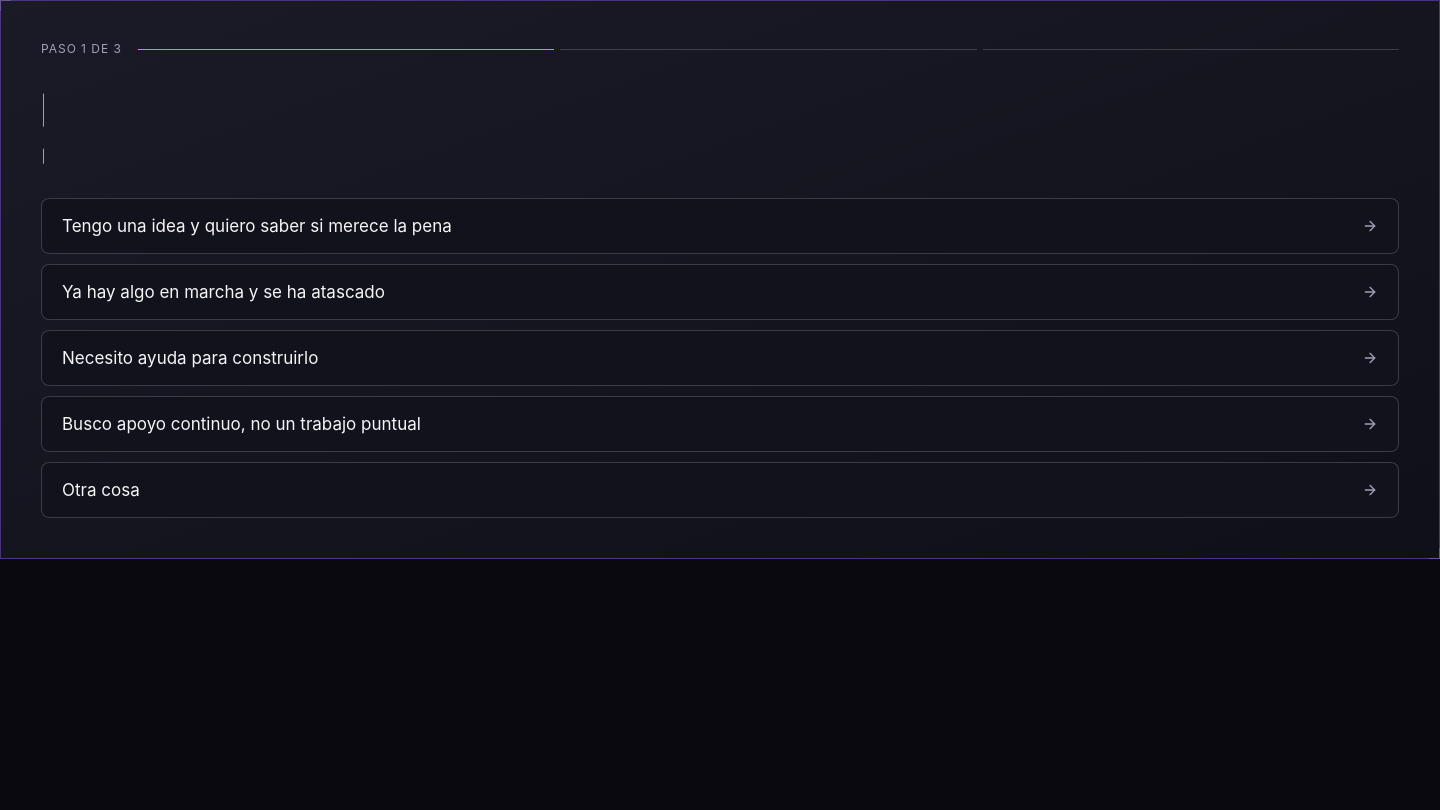
Scenario: ContactForm steps › does not ask about the service as a requirement
Step 1. Click the button "Tengo una idea y quiero saber si merece la pena" → (257, 226), box [41,198,1399,254]
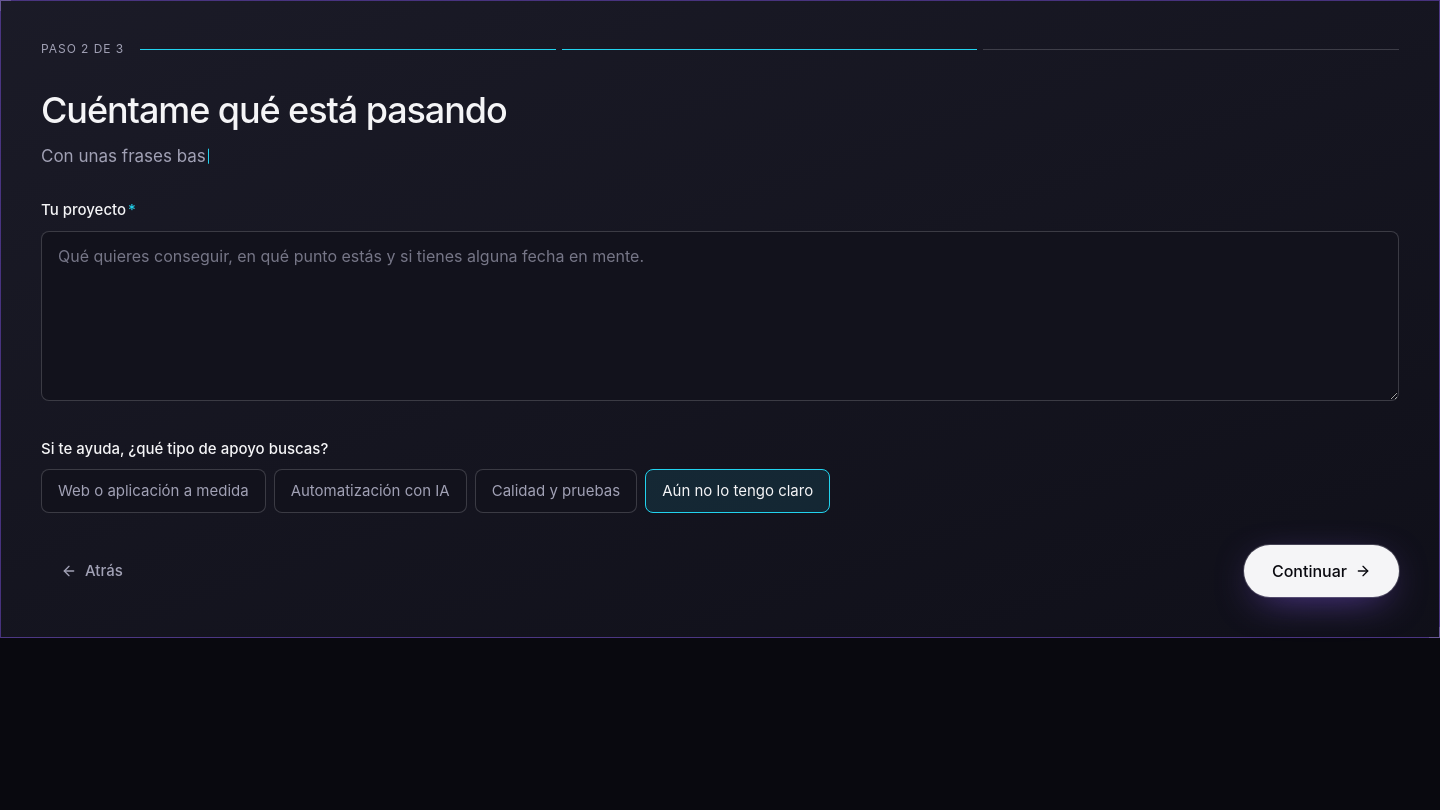
Now the radio button labelled "Aún no lo tengo claro" is checked, box [645,469,830,513]
